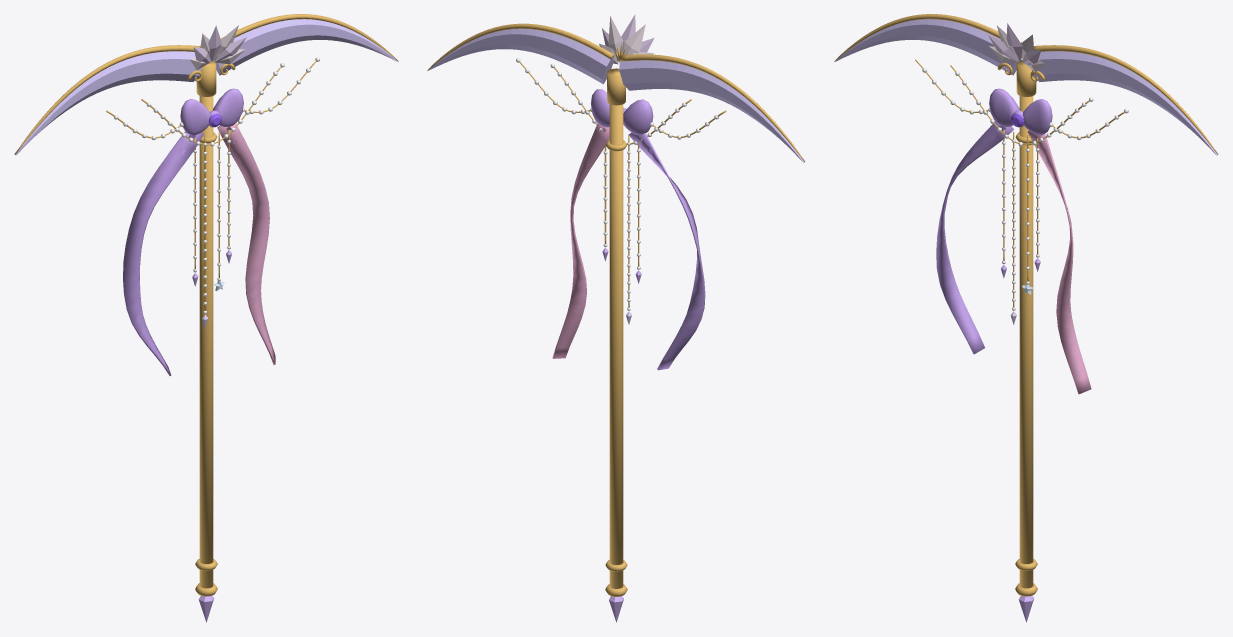
File: LotusCrystalPickaxe.glb
3 renders of one model, left to right at view 1: azimuth 30°, elevation 25°; view 2: azimuth 150°, elevation 25°; view 3: azimuth 330°, elevation 25°, orthographic.
Visible parts, largest first — view 1: LotusCrystalPickaxe_Metal, LotusCrystalPickaxe_SmoothPlastic, LotusCrystalPickaxe_Glass; view 2: LotusCrystalPickaxe_Metal, LotusCrystalPickaxe_Glass, LotusCrystalPickaxe_SmoothPlastic; view 3: LotusCrystalPickaxe_Metal, LotusCrystalPickaxe_SmoothPlastic, LotusCrystalPickaxe_Glass.
Boxes of the visible parts, box(x1,y1,x2,y2) form: LotusCrystalPickaxe_Metal: box(14, 14, 398, 596); LotusCrystalPickaxe_SmoothPlastic: box(114, 57, 319, 375); LotusCrystalPickaxe_Glass: box(14, 19, 398, 622); LotusCrystalPickaxe_Metal: box(428, 23, 804, 596); LotusCrystalPickaxe_Glass: box(427, 14, 805, 622); LotusCrystalPickaxe_SmoothPlastic: box(516, 58, 718, 370); LotusCrystalPickaxe_Metal: box(834, 14, 1218, 596); LotusCrystalPickaxe_SmoothPlastic: box(922, 68, 1128, 394); LotusCrystalPickaxe_Glass: box(834, 19, 1218, 622).
Size of the model in its own units: 2.73 by 4.14 by 0.2475.
3 materials, 3 textured.
